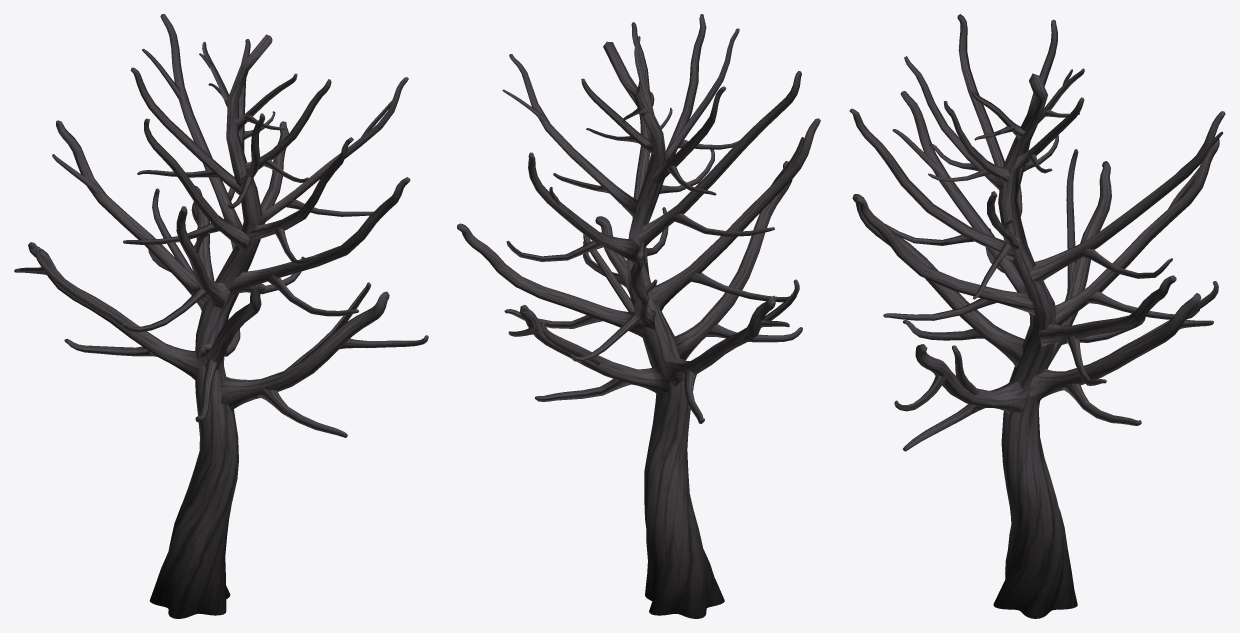
Rendered from DeadTree_1.gltf.
3 renders of one model, left to right at view 1: azimuth 30°, elevation 25°; view 2: azimuth 150°, elevation 25°; view 3: azimuth 270°, elevation 25°, orthographic. The views are drawn at different scales.
Parts seen in each view (by area): view 1: DeadTree_1; view 2: DeadTree_1; view 3: DeadTree_1.
Boxes of the visible parts, box(x1,y1,x2,y2) form: DeadTree_1: box(14, 14, 428, 618); DeadTree_1: box(457, 14, 820, 618); DeadTree_1: box(849, 14, 1225, 618).
Bounding box in the file's own units: 6.15 × 9.5 × 5.75.
Materials: 1 (1 with a texture image).
